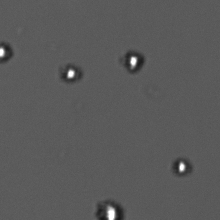Living Cell: (117, 48, 146, 75), (95, 195, 126, 220), (57, 60, 84, 84), (169, 154, 193, 178), (1, 38, 16, 68)
